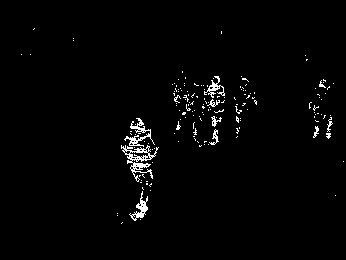person: (123, 116, 156, 221), (208, 76, 226, 144)
